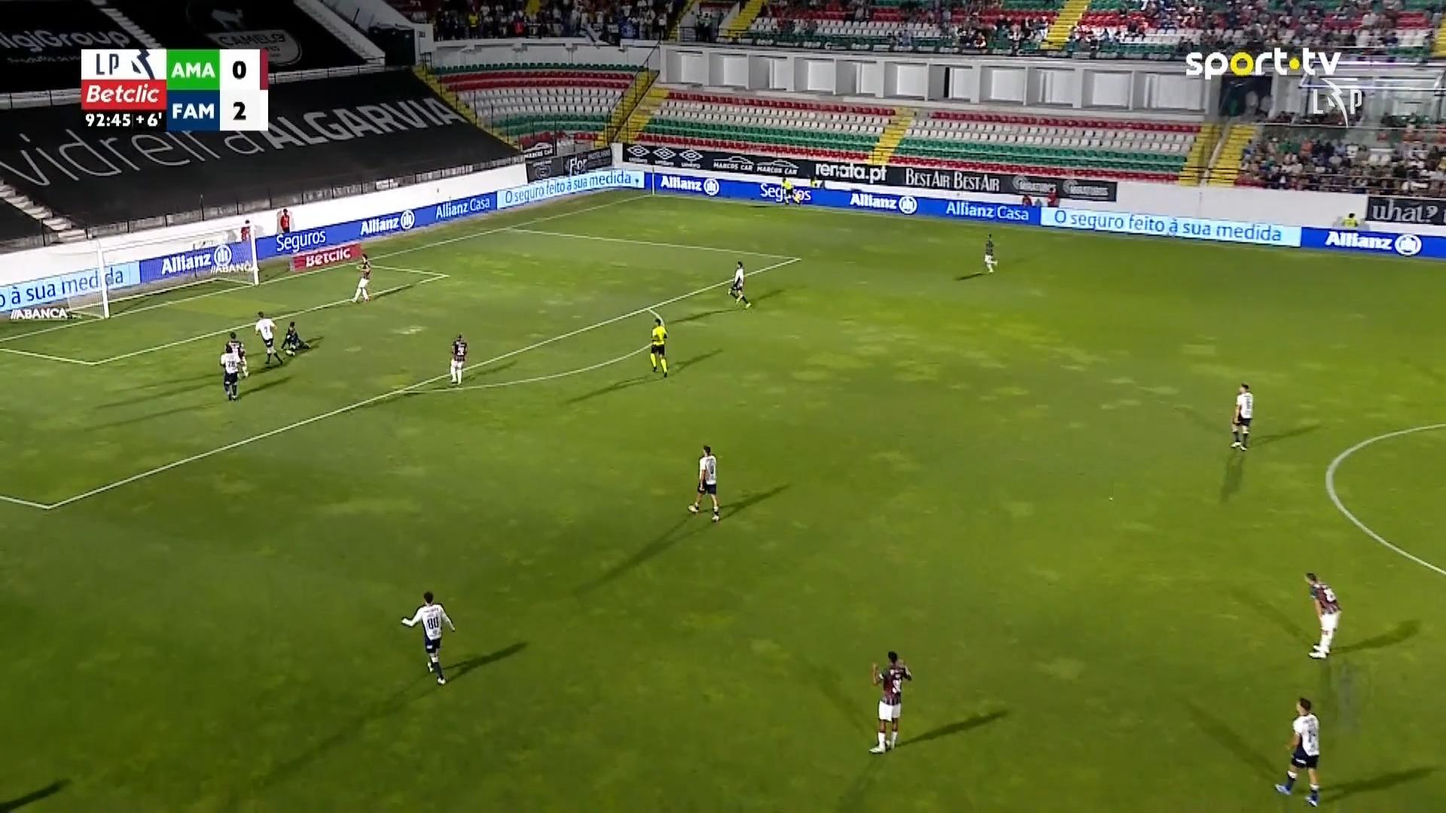ball: (688, 504, 697, 513)
goalkeeper: (279, 319, 304, 356)
player: (400, 590, 456, 685), (1274, 696, 1320, 806), (868, 650, 912, 754), (1303, 571, 1341, 659), (687, 444, 720, 522), (1229, 382, 1253, 451), (254, 310, 282, 366), (219, 343, 243, 400), (224, 330, 249, 379), (727, 260, 751, 308), (349, 252, 371, 303), (448, 333, 468, 385), (982, 233, 997, 274)
referee: (648, 316, 668, 377), (781, 178, 802, 208)
